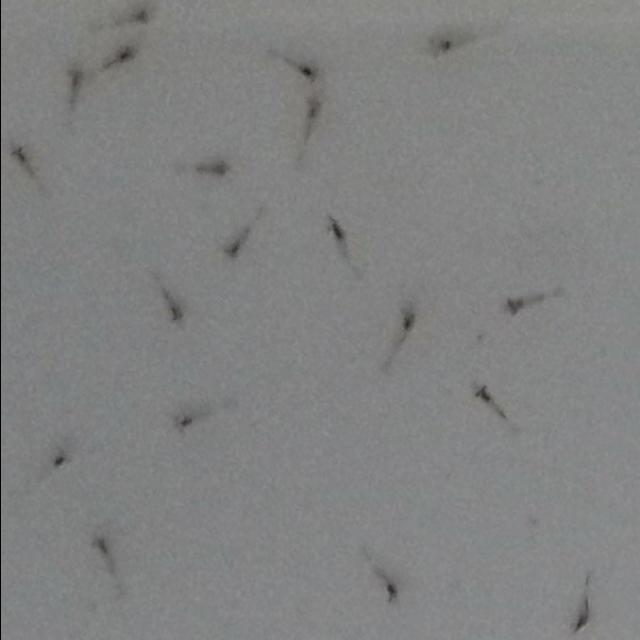shrimp-seed: (218, 223, 254, 258), (426, 31, 468, 61), (566, 592, 596, 634), (160, 284, 187, 330), (8, 136, 36, 180), (89, 530, 118, 568), (62, 68, 88, 104), (197, 157, 230, 185), (395, 303, 419, 341), (500, 292, 530, 322), (323, 216, 349, 250), (46, 442, 72, 473), (105, 46, 136, 72), (300, 97, 324, 129), (170, 407, 197, 435), (294, 58, 318, 84), (472, 382, 494, 407), (380, 580, 398, 608), (130, 6, 152, 28)
